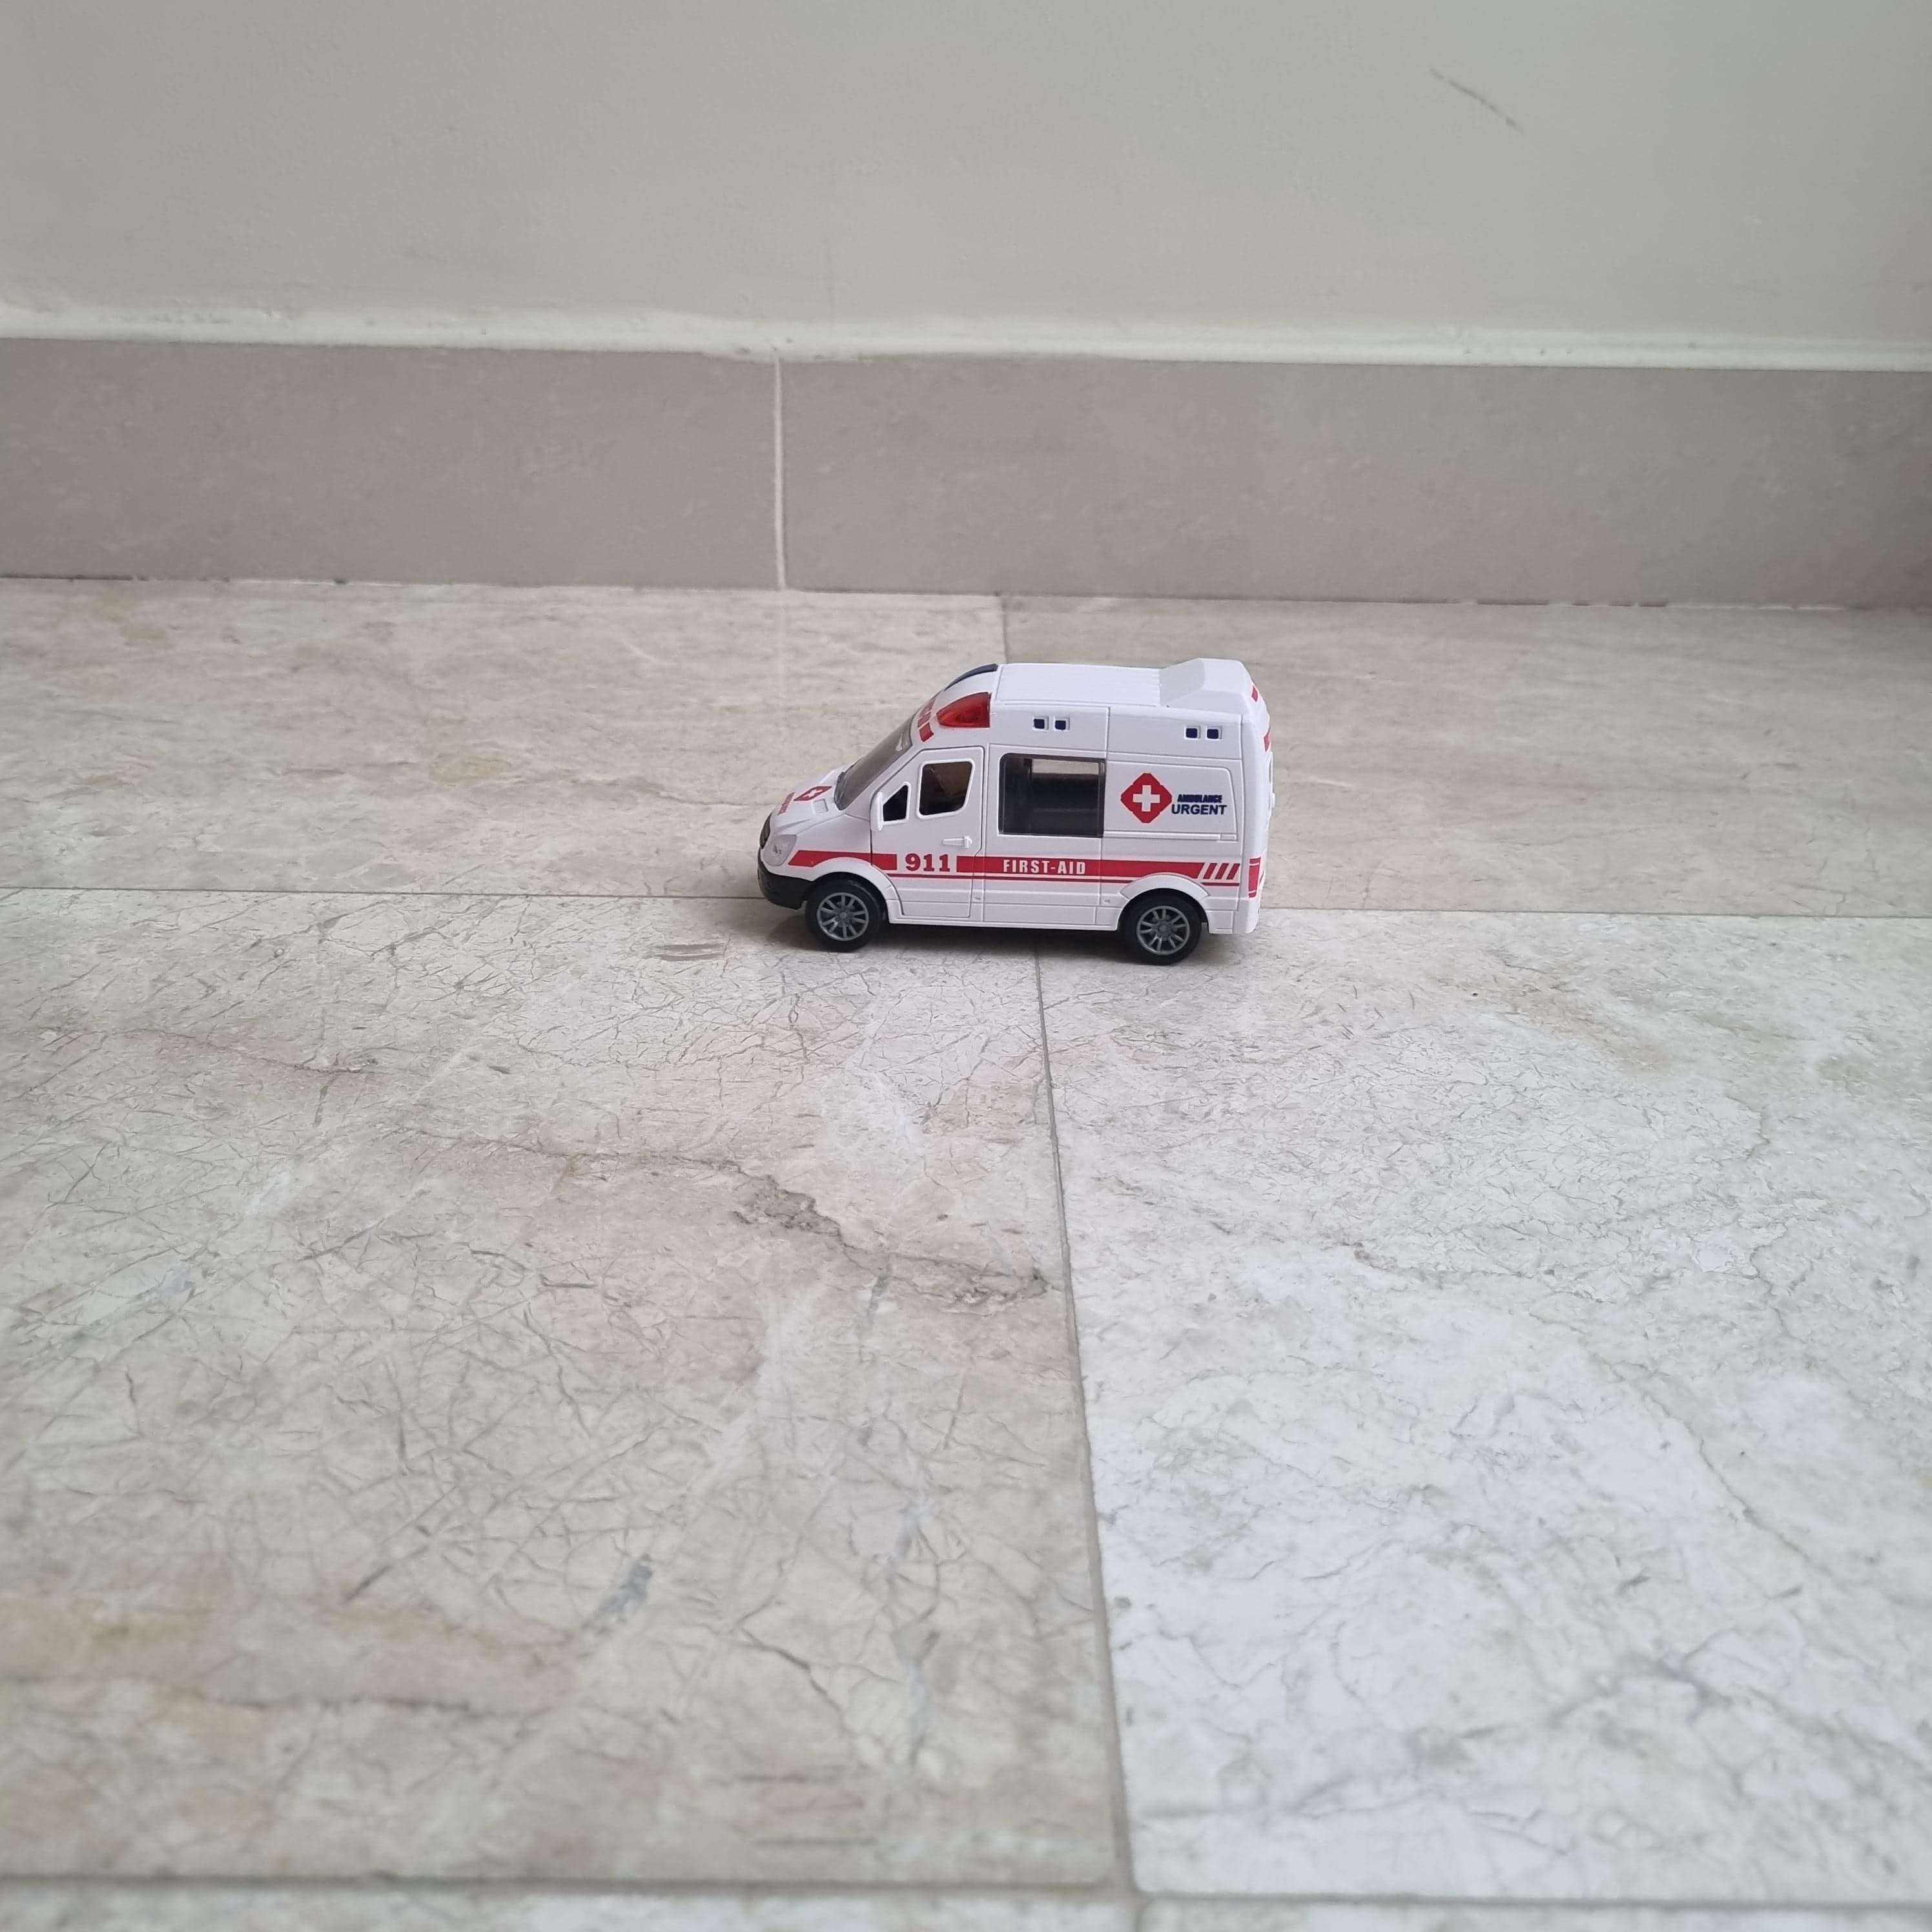ambulance_off: (755, 660, 1276, 968)
